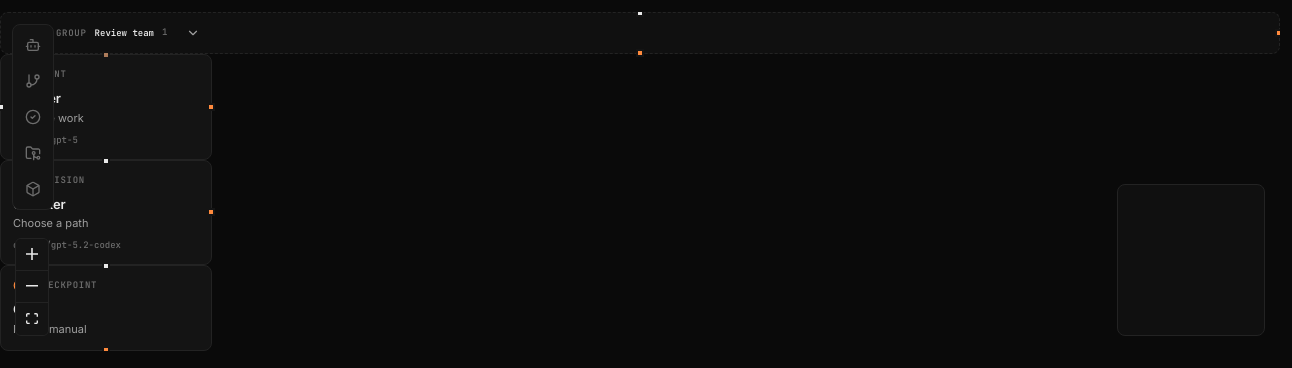
Test: ReactFlow interaction contract › expands and collapses a group from its accessible control
Click the button named "Collapse Review team".
click(193, 33)  # box [175,15,211,51]
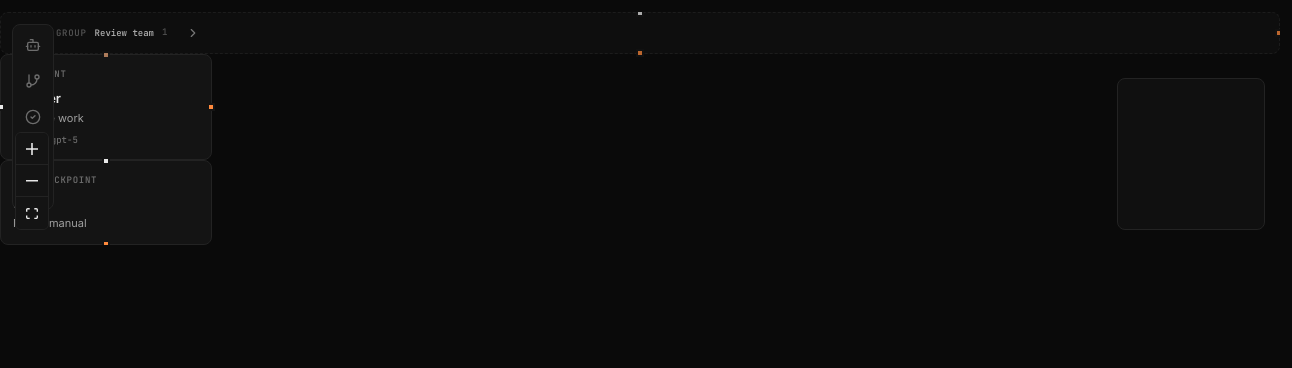
expect the button named "Expand Review team" is collapsed: met, box [175,15,211,51]
